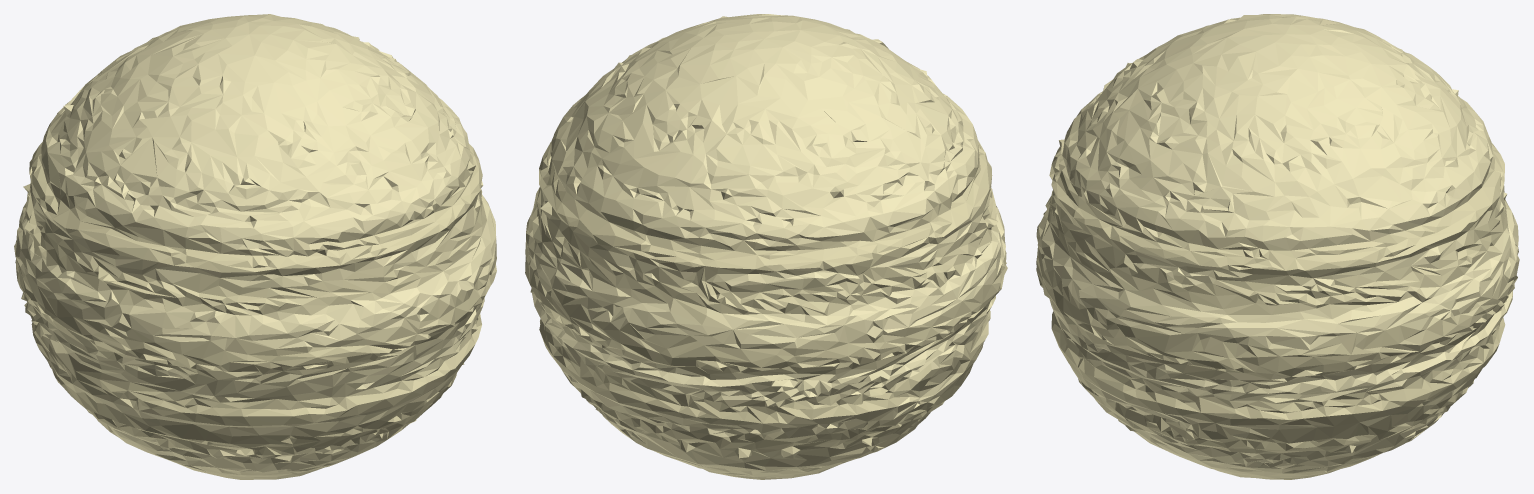
File: jupiter.glb
3 renders of one model, left to right at view 1: azimuth 30°, elevation 25°; view 2: azimuth 150°, elevation 25°; view 3: azimuth 270°, elevation 25°, orthographic.
Parts seen in each view (by area): view 1: Jipitar; view 2: Jipitar; view 3: Jipitar.
Part boxes in pixels (<box>): Jipitar: <box>14,14,496,479</box>; Jipitar: <box>525,14,1007,479</box>; Jipitar: <box>1036,14,1519,479</box>.
Size of the model in its own units: 0.6267 by 0.6084 by 0.6283.
